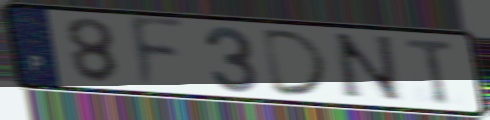3: (202, 24, 260, 95)
8: (63, 15, 124, 86)
D: (259, 27, 334, 98)
F: (126, 14, 190, 93)
N: (330, 31, 408, 104)
T: (403, 36, 458, 107)
